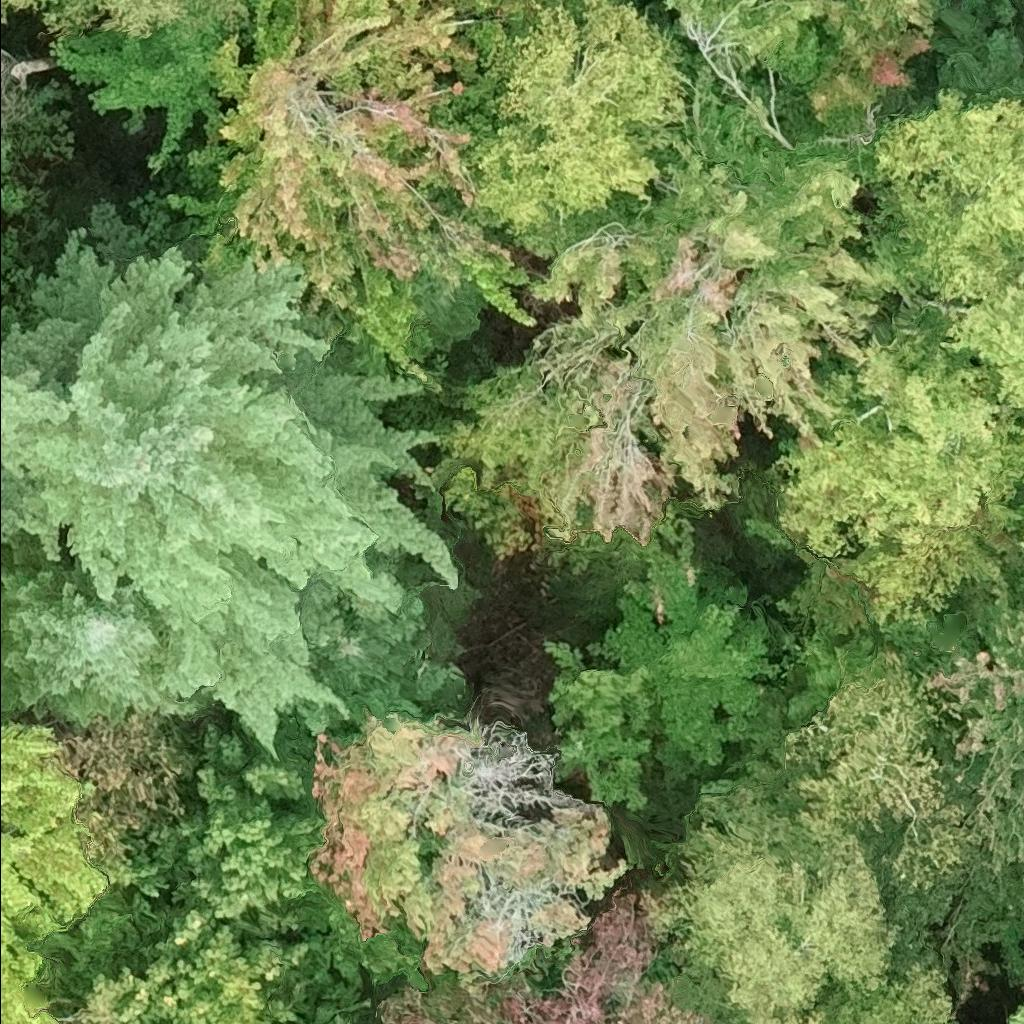crown: (0, 188, 460, 760), (440, 58, 887, 546), (44, 0, 542, 391), (778, 85, 1023, 629), (307, 713, 626, 988), (638, 784, 905, 1023), (449, 0, 695, 255), (776, 647, 983, 904), (580, 554, 784, 796), (0, 527, 219, 734), (377, 892, 718, 1023), (317, 550, 485, 744), (913, 602, 1023, 876), (0, 719, 115, 975), (147, 759, 321, 920), (135, 897, 312, 1023), (541, 639, 657, 812), (802, 0, 940, 134), (742, 957, 962, 1023), (0, 313, 86, 478), (457, 713, 566, 825), (667, 0, 843, 69), (0, 0, 257, 41), (201, 719, 316, 802), (55, 965, 218, 1023), (0, 966, 56, 1023), (1009, 1001, 1023, 1023), (331, 1013, 356, 1023), (1018, 529, 1023, 551), (1023, 976, 1023, 978)
